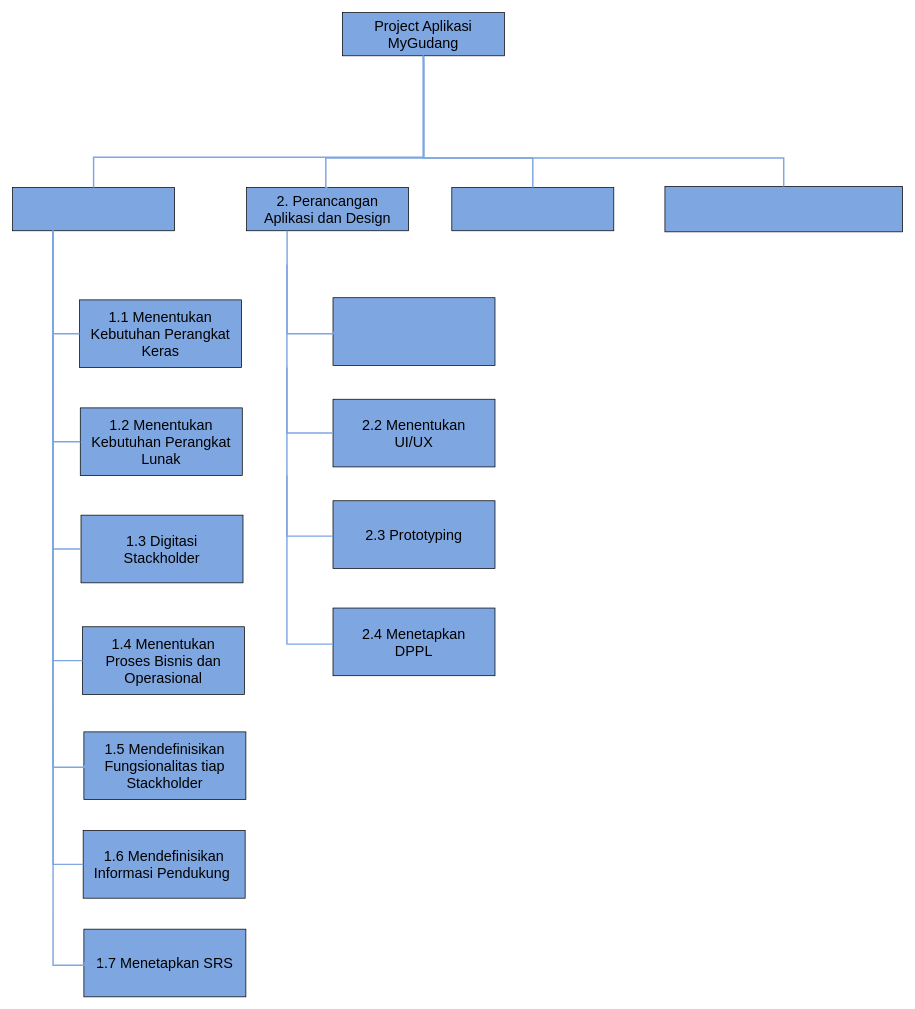
Image size: 915x1009. Some labels were removed from this diagram. The centre of each missing label's shape, as x and y in pixels:
"1. Analisa Kebutuhan" belongs at [93,209].
"2.1 Menentukan Struktur Database" belongs at [413,331].
"3. Implementasi" belongs at [532,209].
"4. Integrasi dan Uji Coba Testing serta Perbaikan Sistem" belongs at [783,209].
